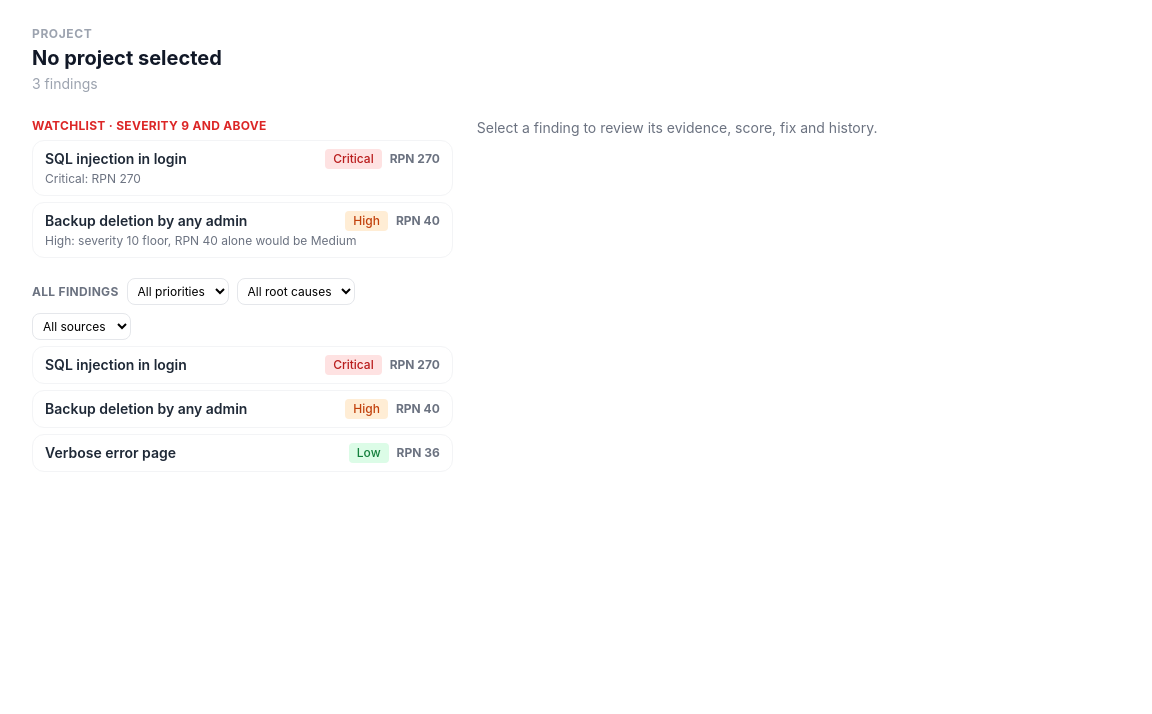
one finding, fully reviewable › shows evidence, score with reason, root cause, fix actions, source and history in one view
Click the button "SQL injection in login Critical RPN 270 Critical: RPN 270" at (116, 158), box top-left (32, 140), bottom-right (453, 196)
(page scrolled)
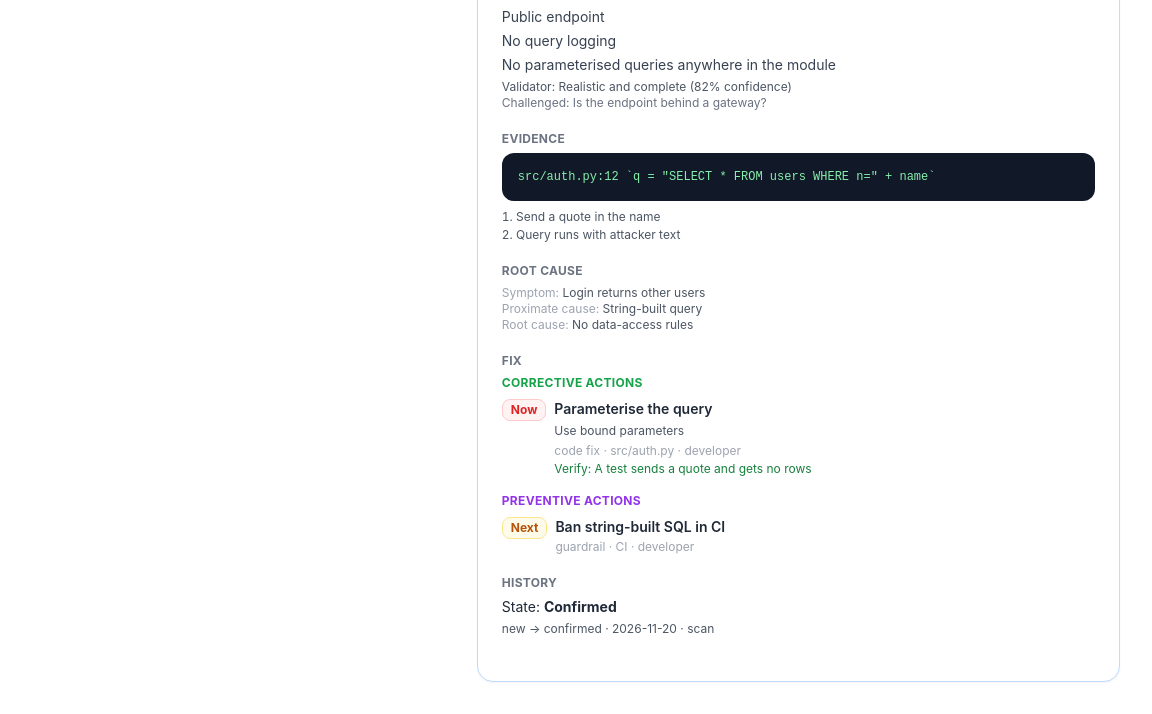
expect the text "src/auth.py:12 `q = \"SELECT * FROM users WHERE n=\" + name`" is shown: met, box top-left (502, 153), bottom-right (1095, 201)
expect the text "Validator: Realistic and complete (82% confidence)" is shown: met, box top-left (502, 79), bottom-right (792, 94)
expect the text "Root cause: No data-access rules" is shown: met, box top-left (502, 317), bottom-right (693, 332)
